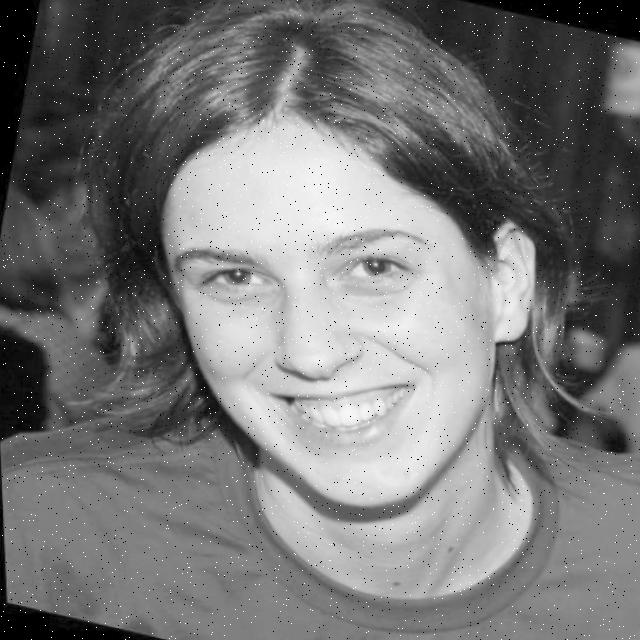puffy_eyes: (331, 273, 403, 307), (198, 287, 275, 314)
